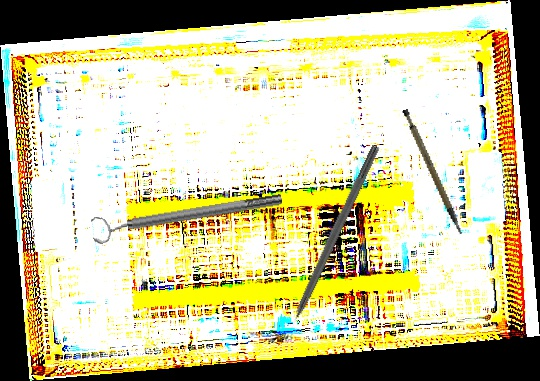Fixation Ring: (89, 185, 285, 246)
Hook Surgical: (278, 143, 381, 345)
Scalpel Handle: (399, 103, 464, 242)
